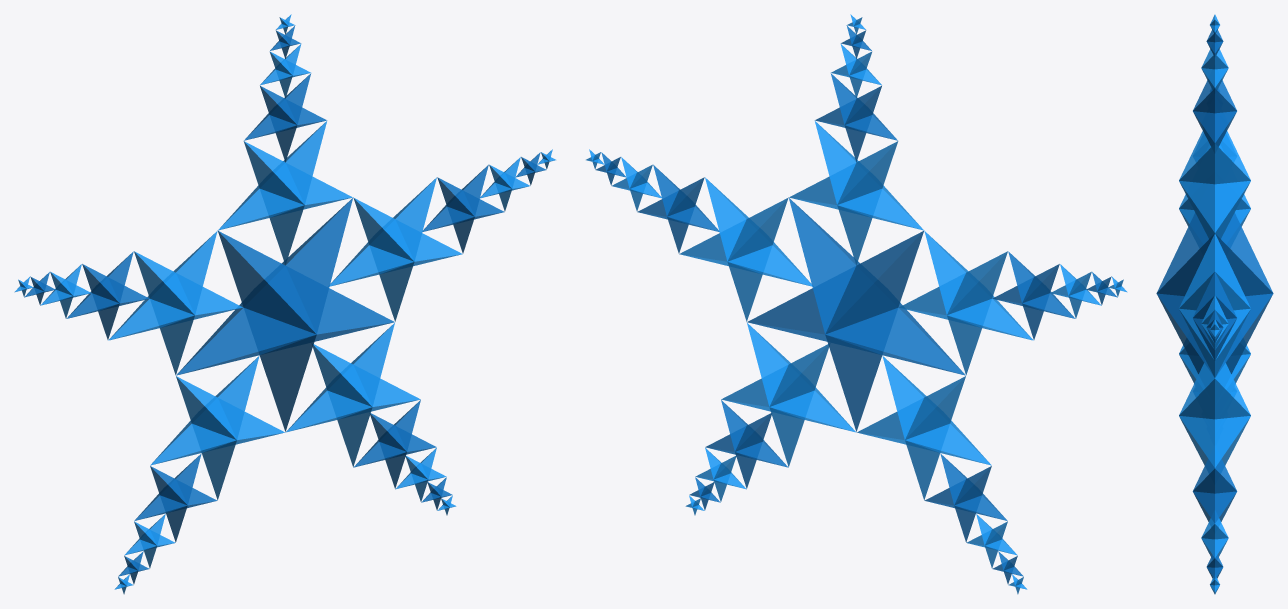
Rendered from fractalpentagrammicdipyramidA5.glb.
3 renders of one model, left to right at view 1: azimuth 30°, elevation 25°; view 2: azimuth 150°, elevation 25°; view 3: azimuth 270°, elevation 25°, orthographic. The views are drawn at different scales.
Bounding box in the file's own units: 11.99 × 11.4 × 2.4.
